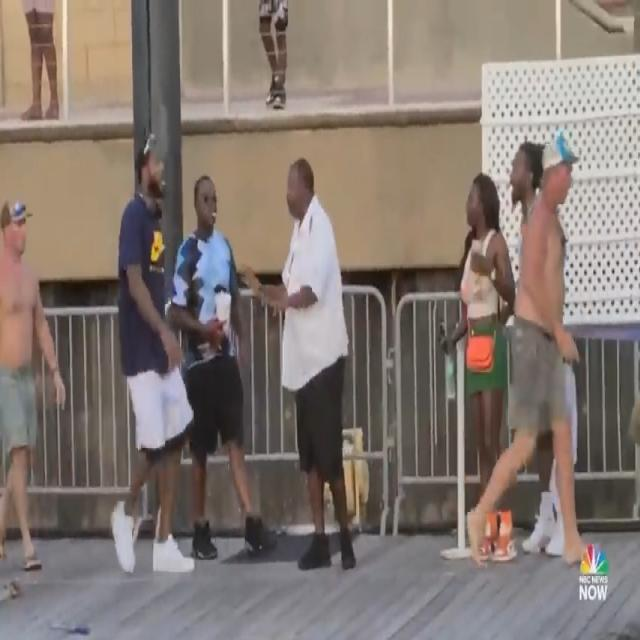non-fight: (80, 120, 385, 598), (430, 134, 604, 579), (0, 182, 68, 582)
